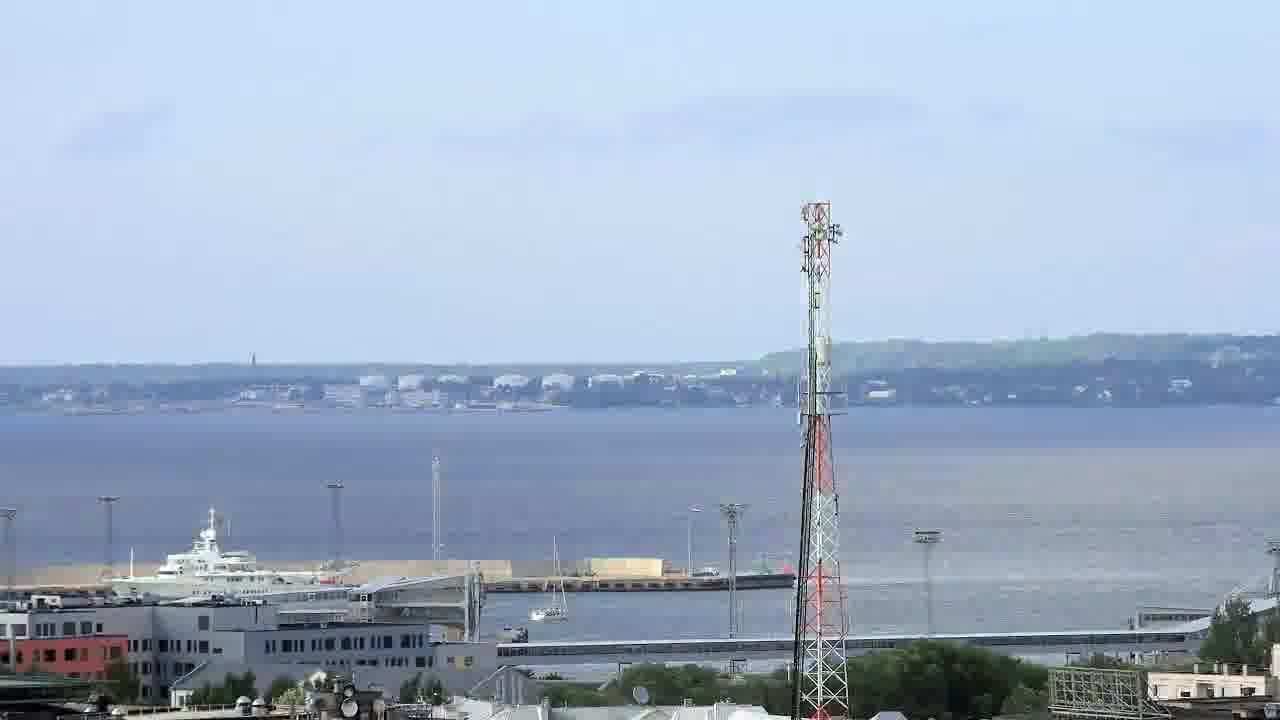type-0: (526, 580, 583, 633)
type-3: (84, 515, 355, 603)
